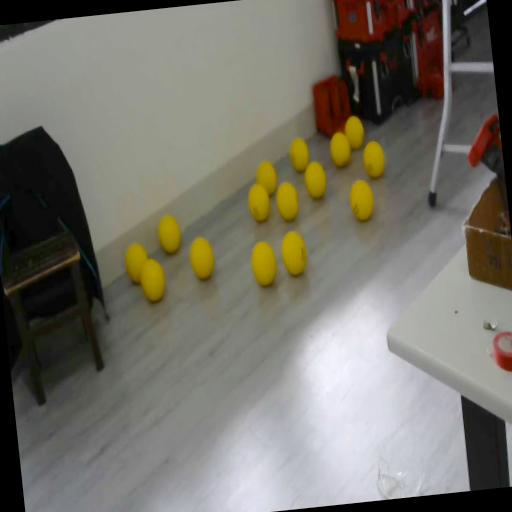FUEL: (248, 238, 280, 288), (137, 255, 169, 305), (279, 228, 309, 277), (187, 234, 217, 281), (346, 177, 376, 222), (155, 212, 182, 256), (275, 180, 300, 222), (254, 158, 280, 198), (302, 160, 328, 200), (328, 129, 352, 168), (342, 113, 367, 150), (362, 140, 386, 178), (288, 137, 310, 172)
